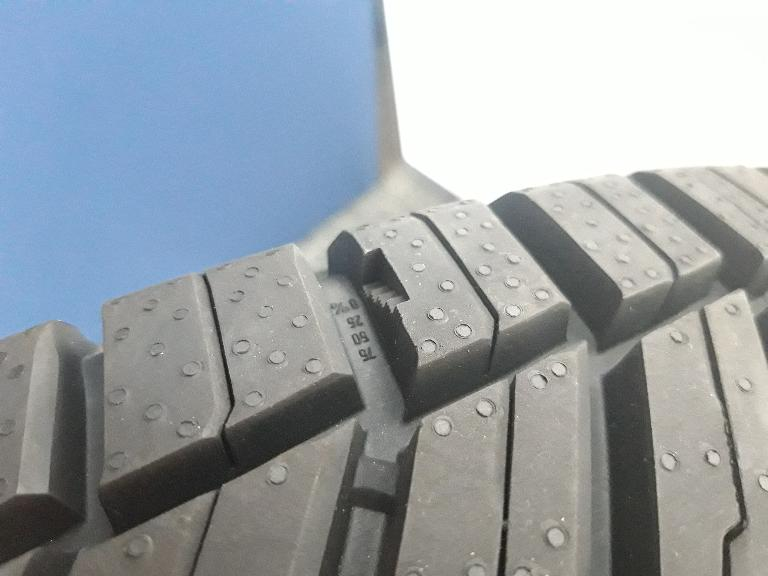temoin:100: (358, 246, 414, 356)
